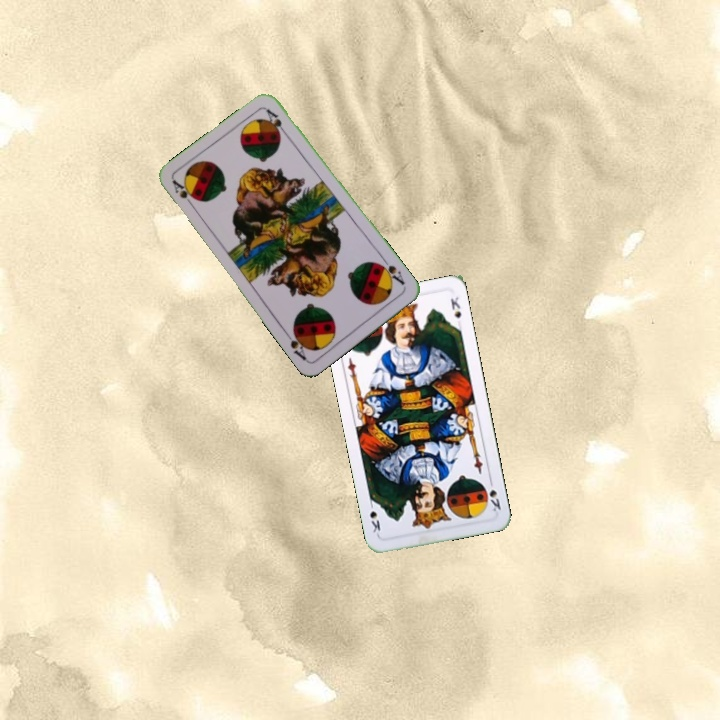SA: (374, 254, 407, 288), (168, 176, 200, 211)
SK: (485, 475, 503, 514)
